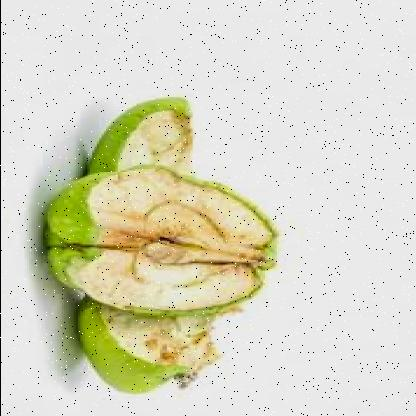damaged_apple: (50, 166, 274, 312), (66, 295, 281, 394)
